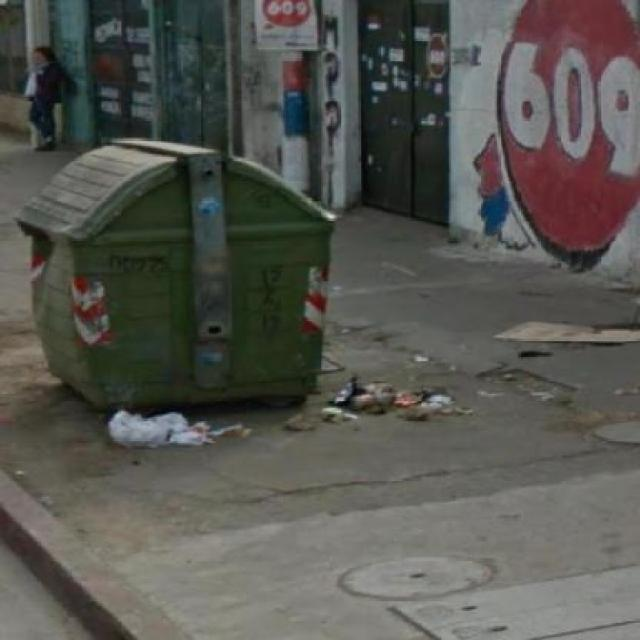garbage: (290, 375, 453, 437), (488, 311, 634, 361), (78, 402, 210, 450)
